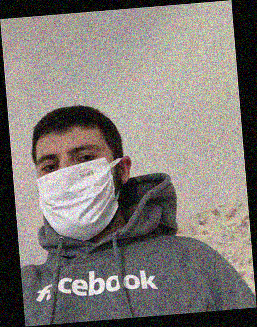with_mask: (38, 144, 119, 242)
